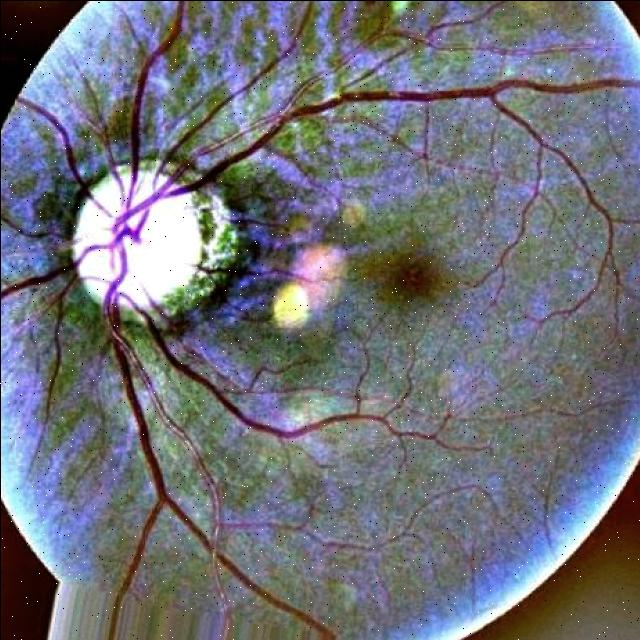Macula: (370, 226, 451, 315)
Nerves: (0, 23, 640, 630), (140, 296, 436, 452)
Optic Disk: (19, 121, 267, 358)
